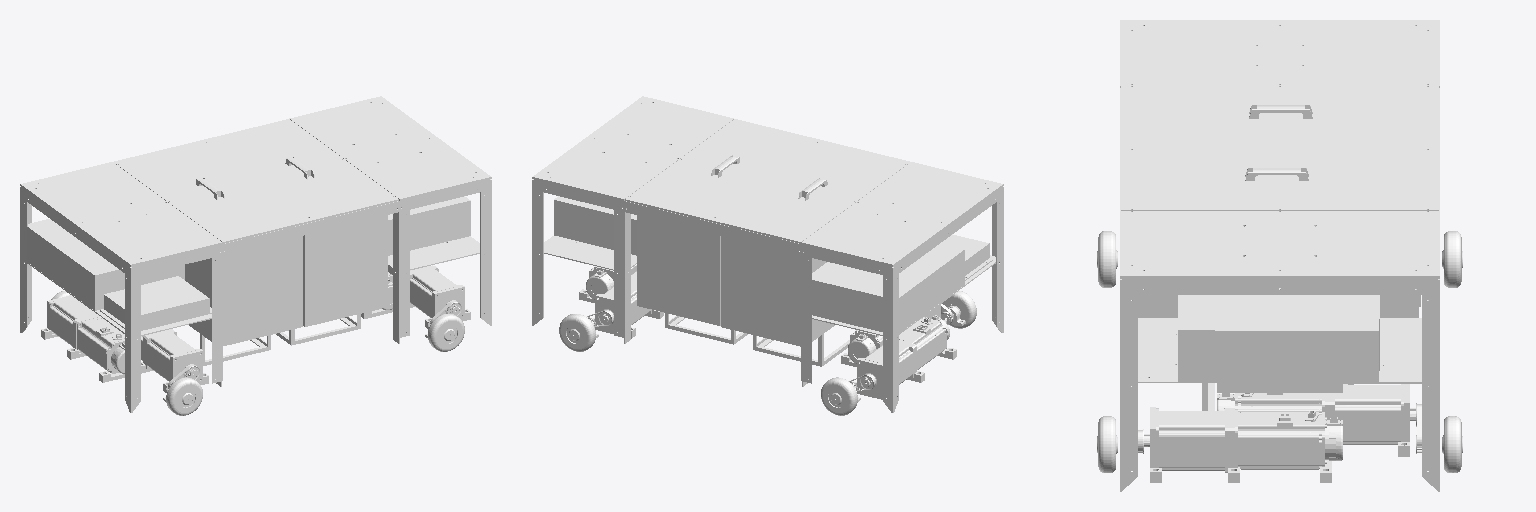
robot.urdf — car6:
<?xml version="1.0" encoding="utf-8"?>
<!-- This URDF was automatically created by SolidWorks to URDF Exporter! Originally created by [author] ([email redacted]) 
     Commit Version: 1.5.1-0-g916b5db  Build Version: 1.5.7152.31018
     For more information, please see http://wiki.ros.org/sw_urdf_exporter -->
<robot
  name="car6">
  <link
    name="base_link">
    <inertial>
      <origin
        xyz="4.02122942777527E-07 3.44169137633799E-15 0.00212528127877701"
        rpy="0 0 0" />
      <mass
        value="2.19507335899911" />
      <inertia
        ixx="0.0436806825633892"
        ixy="-5.08655266646313E-06"
        ixz="-3.34444135411209E-17"
        iyy="0.0455253476297357"
        iyz="-1.22445531747282E-16"
        izz="0.0891232981698546" />
    </inertial>
    <visual>
      <origin
        xyz="0 0 0"
        rpy="0 0 0" />
      <geometry>
        <mesh
          filename="package://car6/meshes/base_link.STL" />
      </geometry>
      <material
        name="">
        <color
          rgba="1 1 1 1" />
      </material>
    </visual>
    <collision>
      <origin
        xyz="0 0 0"
        rpy="0 0 0" />
      <geometry>
        <mesh
          filename="package://car6/meshes/base_link.STL" />
      </geometry>
    </collision>
  </link>
  <link
    name="link1">
    <inertial>
      <origin
        xyz="0 0.015 -2.77555756156289E-17"
        rpy="0 0 0" />
      <mass
        value="0.196670527636265" />
      <inertia
        ixx="0.00012319074315568"
        ixy="1.68055485182223E-21"
        ixz="5.68270902369089E-22"
        iyy="0.000221934036274288"
        iyz="-2.99013335426208E-20"
        izz="0.00012319074315568" />
    </inertial>
    <visual>
      <origin
        xyz="0 0 0"
        rpy="0 0 0" />
      <geometry>
        <mesh
          filename="package://car6/meshes/link1.STL" />
      </geometry>
      <material
        name="">
        <color
          rgba="1 1 1 1" />
      </material>
    </visual>
    <collision>
      <origin
        xyz="0 0 0"
        rpy="0 0 0" />
      <geometry>
        <mesh
          filename="package://car6/meshes/link1.STL" />
      </geometry>
    </collision>
  </link>
  <joint
    name="joint1"
    type="revolute">
    <origin
      xyz="-0.37 -0.2765 0.022"
      rpy="0 0 3.1416" />
    <parent
      link="base_link" />
    <child
      link="link1" />
    <axis
      xyz="0 -1 0" />
    <limit
      lower="-3.14"
      upper="3.14"
      effort="100"
      velocity="1" />
  </joint>
  <link
    name="link2">
    <inertial>
      <origin
        xyz="1.11022302462516E-16 0.00555555555555555 8.32667268468867E-17"
        rpy="0 0 0" />
      <mass
        value="0.196670527636265" />
      <inertia
        ixx="0.00012319074315568"
        ixy="-1.88078947842729E-20"
        ixz="2.0545131216551E-22"
        iyy="0.000221934036274288"
        iyz="-1.86019000446159E-20"
        izz="0.00012319074315568" />
    </inertial>
    <visual>
      <origin
        xyz="0 0 0"
        rpy="0 0 0" />
      <geometry>
        <mesh
          filename="package://car6/meshes/link2.STL" />
      </geometry>
      <material
        name="">
        <color
          rgba="1 1 1 1" />
      </material>
    </visual>
    <collision>
      <origin
        xyz="0 0 0"
        rpy="0 0 0" />
      <geometry>
        <mesh
          filename="package://car6/meshes/link2.STL" />
      </geometry>
    </collision>
  </link>
  <joint
    name="joint2"
    type="revolute">
    <origin
      xyz="0.37 -0.28594 0.022"
      rpy="0 0 -3.1416" />
    <parent
      link="base_link" />
    <child
      link="link2" />
    <axis
      xyz="0 -1 0" />
    <limit
      lower="-3.14"
      upper="3.14"
      effort="100"
      velocity="1" />
  </joint>
  <link
    name="link3">
    <inertial>
      <origin
        xyz="-1.11022302462516E-16 0.00555555555555559 5.55111512312578E-17"
        rpy="0 0 0" />
      <mass
        value="0.196670527636265" />
      <inertia
        ixx="0.00012319074315568"
        ixy="-8.41242213867249E-21"
        ixz="6.34199391620153E-22"
        iyy="0.000221934036274288"
        iyz="6.59046589990345E-20"
        izz="0.00012319074315568" />
    </inertial>
    <visual>
      <origin
        xyz="0 0 0"
        rpy="0 0 0" />
      <geometry>
        <mesh
          filename="package://car6/meshes/link3.STL" />
      </geometry>
      <material
        name="">
        <color
          rgba="1 1 1 1" />
      </material>
    </visual>
    <collision>
      <origin
        xyz="0 0 0"
        rpy="0 0 0" />
      <geometry>
        <mesh
          filename="package://car6/meshes/link3.STL" />
      </geometry>
    </collision>
  </link>
  <joint
    name="joint3"
    type="revolute">
    <origin
      xyz="0.37 0.28594 0.022"
      rpy="0 0 0" />
    <parent
      link="base_link" />
    <child
      link="link3" />
    <axis
      xyz="0 -1 0" />
    <limit
      lower="-3.14"
      upper="3.14"
      effort="100"
      velocity="1" />
  </joint>
  <link
    name="link4">
    <inertial>
      <origin
        xyz="1.38777878078145E-17 -0.00555555555555542 -2.77555756156289E-17"
        rpy="0 0 0" />
      <mass
        value="0.196670527636265" />
      <inertia
        ixx="0.00012319074315568"
        ixy="-2.41157420217329E-21"
        ixz="3.0147920638297E-22"
        iyy="0.000221934036274288"
        iyz="7.15576279845473E-20"
        izz="0.00012319074315568" />
    </inertial>
    <visual>
      <origin
        xyz="0 0 0"
        rpy="0 0 0" />
      <geometry>
        <mesh
          filename="package://car6/meshes/link4.STL" />
      </geometry>
      <material
        name="">
        <color
          rgba="1 1 1 1" />
      </material>
    </visual>
    <collision>
      <origin
        xyz="0 0 0"
        rpy="0 0 0" />
      <geometry>
        <mesh
          filename="package://car6/meshes/link4.STL" />
      </geometry>
    </collision>
  </link>
  <joint
    name="joint4"
    type="revolute">
    <origin
      xyz="-0.37 0.29706 0.022"
      rpy="0 0 0" />
    <parent
      link="base_link" />
    <child
      link="link4" />
    <axis
      xyz="0 -1 0" />
    <limit
      lower="-3.14"
      upper="3.14"
      effort="100"
      velocity="1" />
  </joint>
  <link
    name="fix_link">
    <inertial>
      <origin
        xyz="-0.00205175959116993 0.00354919045860191 0.230032668804987"
        rpy="0 0 0" />
      <mass
        value="96.1246042097922" />
      <inertia
        ixx="1.91388330168671"
        ixy="-2.38360107290611E-05"
        ixz="-2.0468759548067E-17"
        iyy="0.911239224486908"
        iyz="-5.55860947911324E-15"
        izz="1.93441225874395" />
    </inertial>
    <visual>
      <origin
        xyz="0 0 0"
        rpy="0 0 0" />
      <geometry>
        <mesh
          filename="package://car6/meshes/fix_link.STL" />
      </geometry>
      <material
        name="">
        <color
          rgba="1 1 1 1" />
      </material>
    </visual>
    <collision>
      <origin
        xyz="0 0 0"
        rpy="0 0 0" />
      <geometry>
        <mesh
          filename="package://car6/meshes/fix_link.STL" />
      </geometry>
    </collision>
  </link>
  <joint
    name="fix_joint"
    type="fixed">
    <origin
      xyz="0 0 0"
      rpy="0 0 0" />
    <parent
      link="base_link" />
    <child
      link="fix_link" />
    <axis
      xyz="0 0 0" />
  </joint>
</robot>

--- Facts derived from the render (not from the file) ---
3 views of the same robot in one strip: view 1: azimuth 30°, elevation 25°; view 2: azimuth 150°, elevation 25°; view 3: azimuth 270°, elevation 25° (orthographic).
Model car6 with 6 links and 5 joints (4 revolute, 1 fixed), rooted at base_link, posed all joints at 0.
Visible links, largest first — view 1: fix_link, link2, link1; view 2: fix_link, link3, link4, link1; view 3: fix_link, link2, link3, link1, link4.
Boxes of the visible links, box(x1,y1,x2,y2) form: fix_link: box(20, 96, 491, 412); link2: box(428, 314, 464, 351); link1: box(166, 377, 202, 415); fix_link: box(532, 96, 1003, 412); link3: box(559, 314, 595, 351); link4: box(821, 377, 857, 415); link1: box(941, 291, 976, 328); fix_link: box(1120, 20, 1439, 491); link2: box(1097, 416, 1117, 472); link3: box(1442, 416, 1462, 472); link1: box(1097, 231, 1117, 287); link4: box(1442, 231, 1462, 287).
Size in the robot's own frame: 1.02 by 0.618 by 0.4451 metres.
5 mesh visuals loaded from 6 distinct referenced files (5 binary STL); not drawn: 1 (reference not matched to a file when rendering).